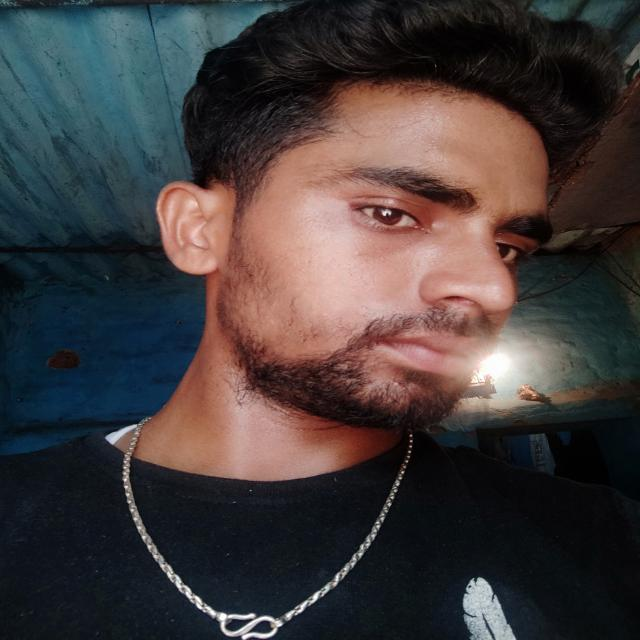Acne: (351, 252, 378, 269), (420, 100, 440, 114), (408, 255, 420, 272), (449, 115, 455, 122)
